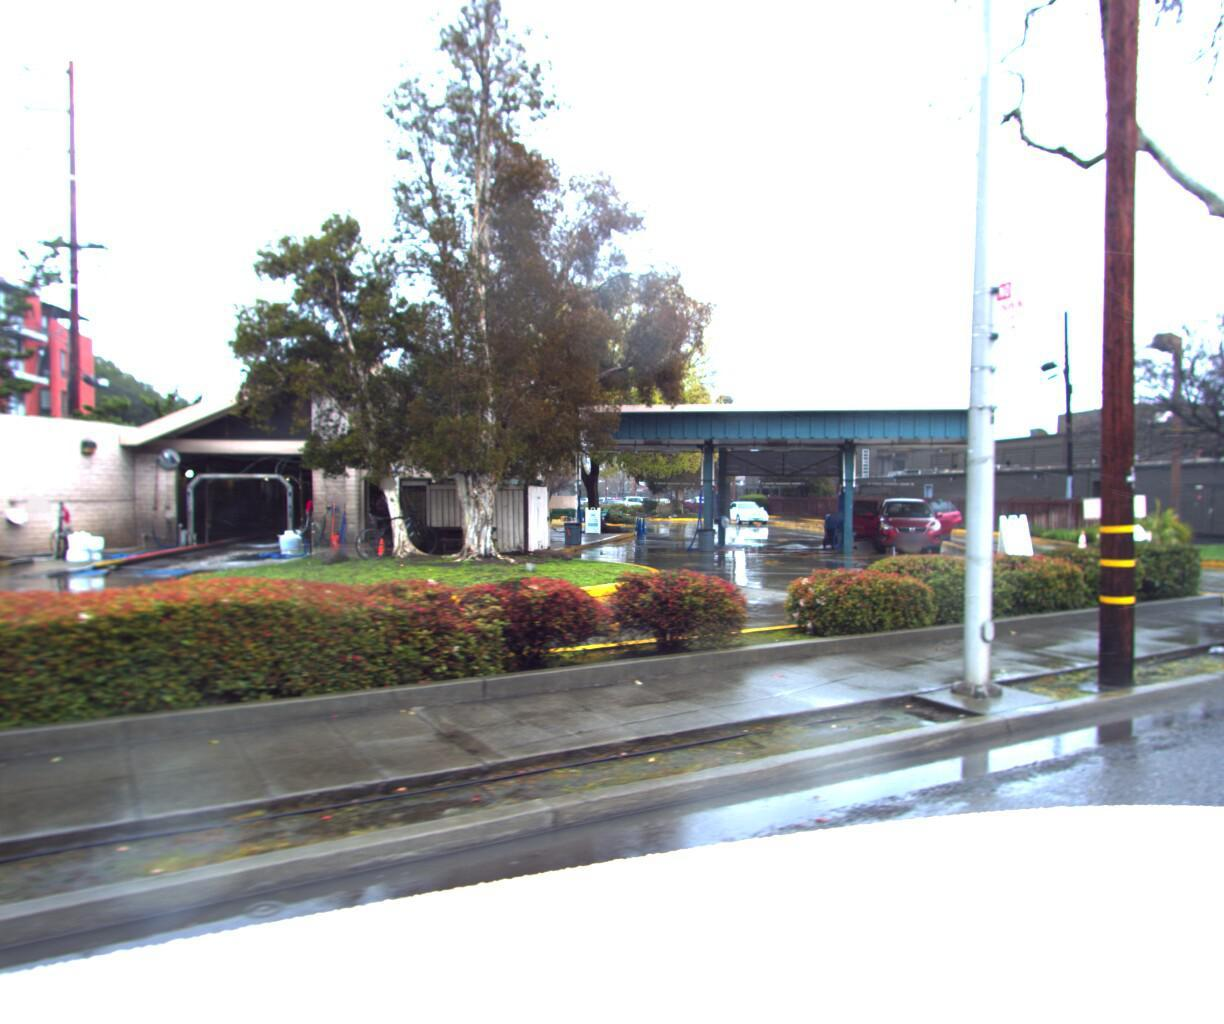bicycle: (334, 505, 448, 563)
car: (873, 494, 944, 554)
truck: (0, 485, 8, 541)
